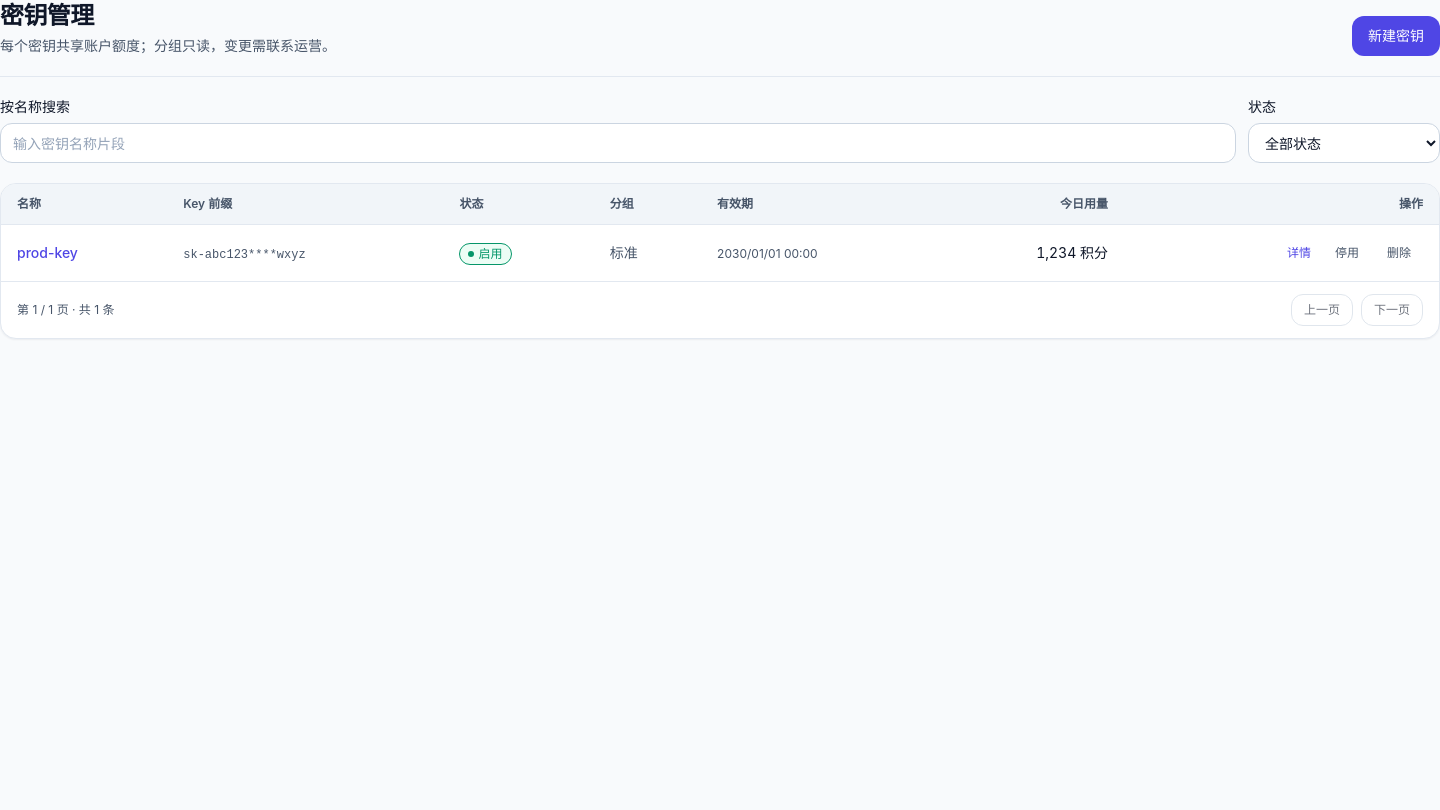
Test: KeysPage › F6-5: the wizard rejects a batch count outside the 1–10 backend range
This screenshot has width=1440, height=810.
Expected: the link "prod-key" is shown, [17,244,78,261]
Click the button "新建密钥": (1396, 36) [1352,16,1439,56]
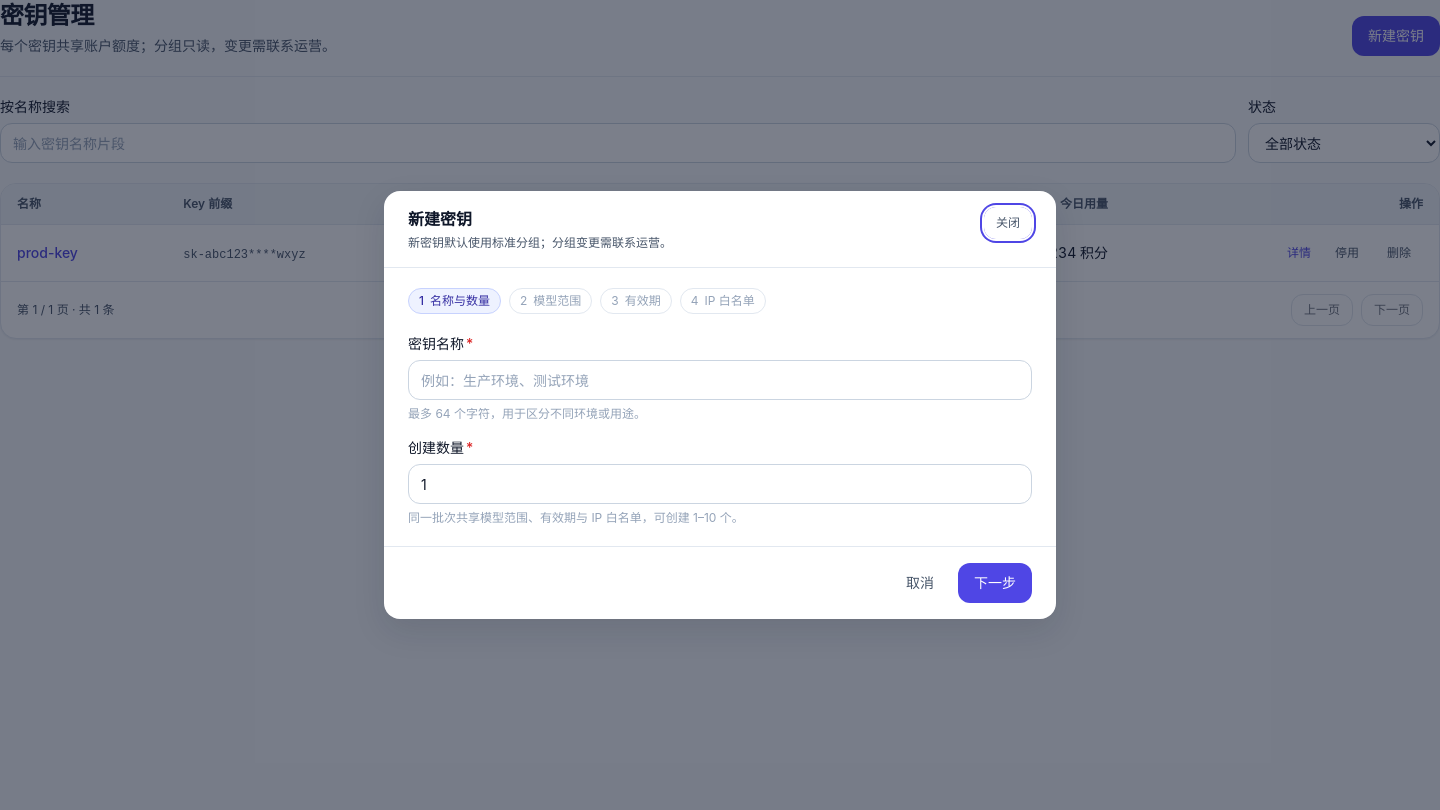
In the field labelled "密钥名称*": (720, 380) [408,360,1032,400], type "prod-key"
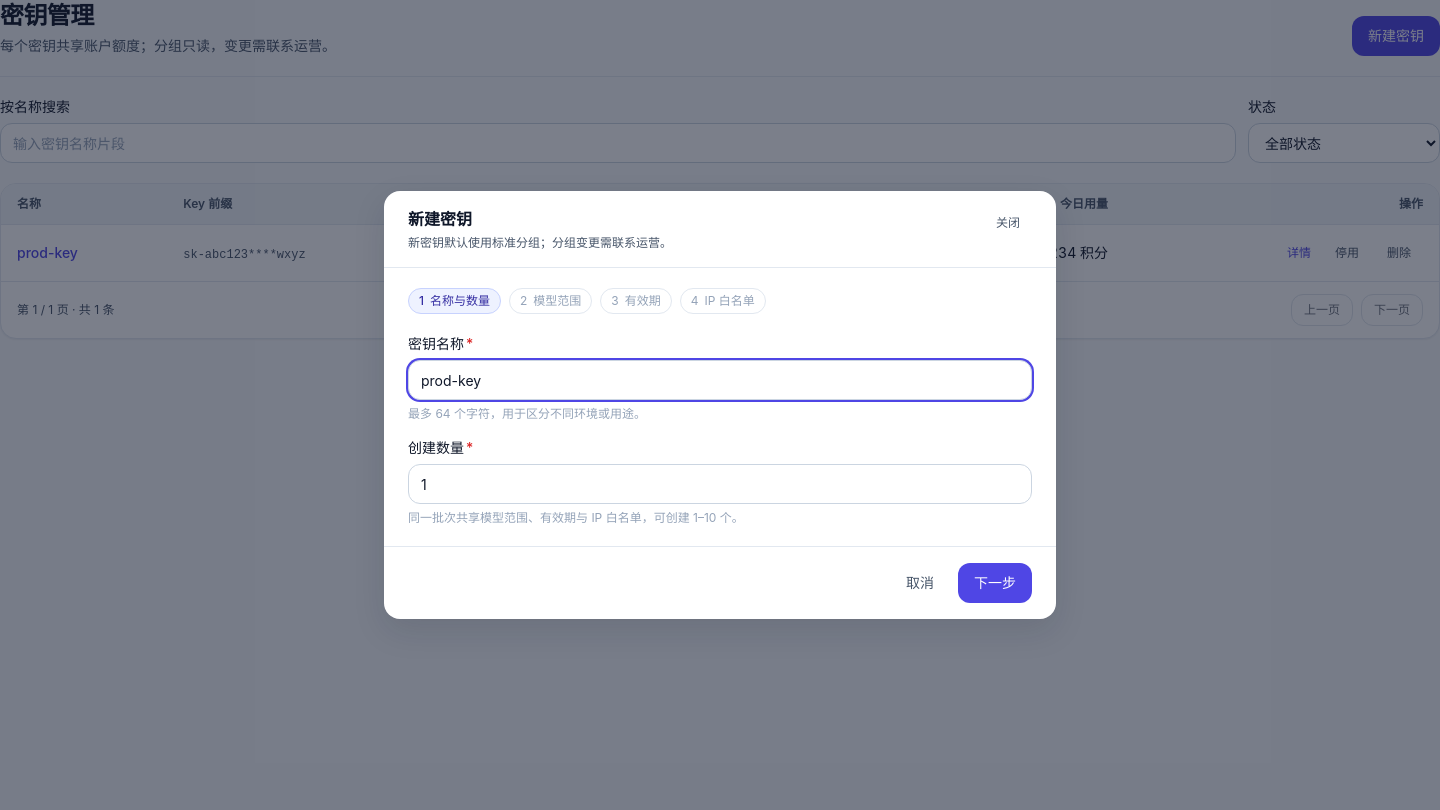
Replace the text in the number field labelled "创建数量*" with "11": (720, 484) [408,464,1032,504]
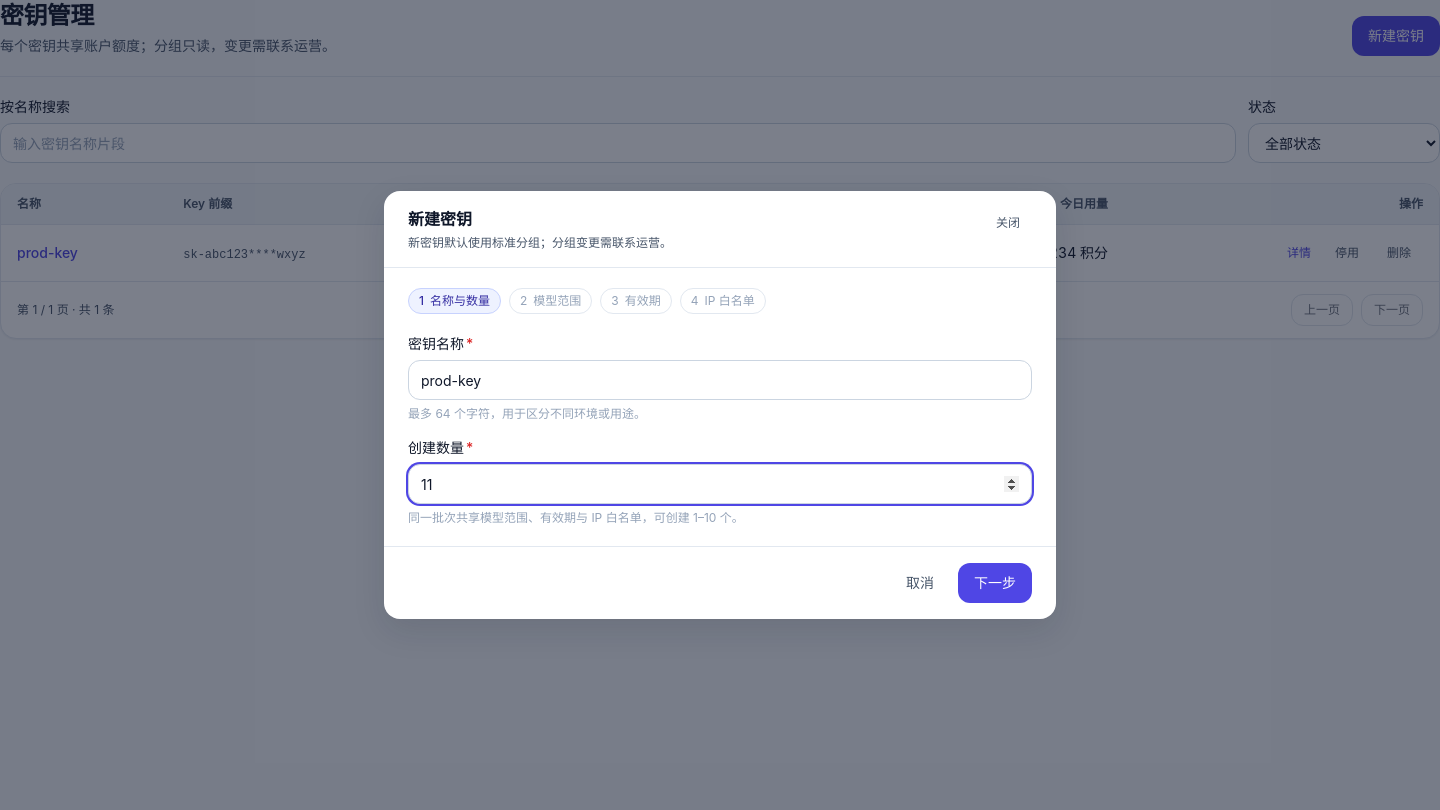
Click the button "下一步": (995, 583) [958,563,1032,603]
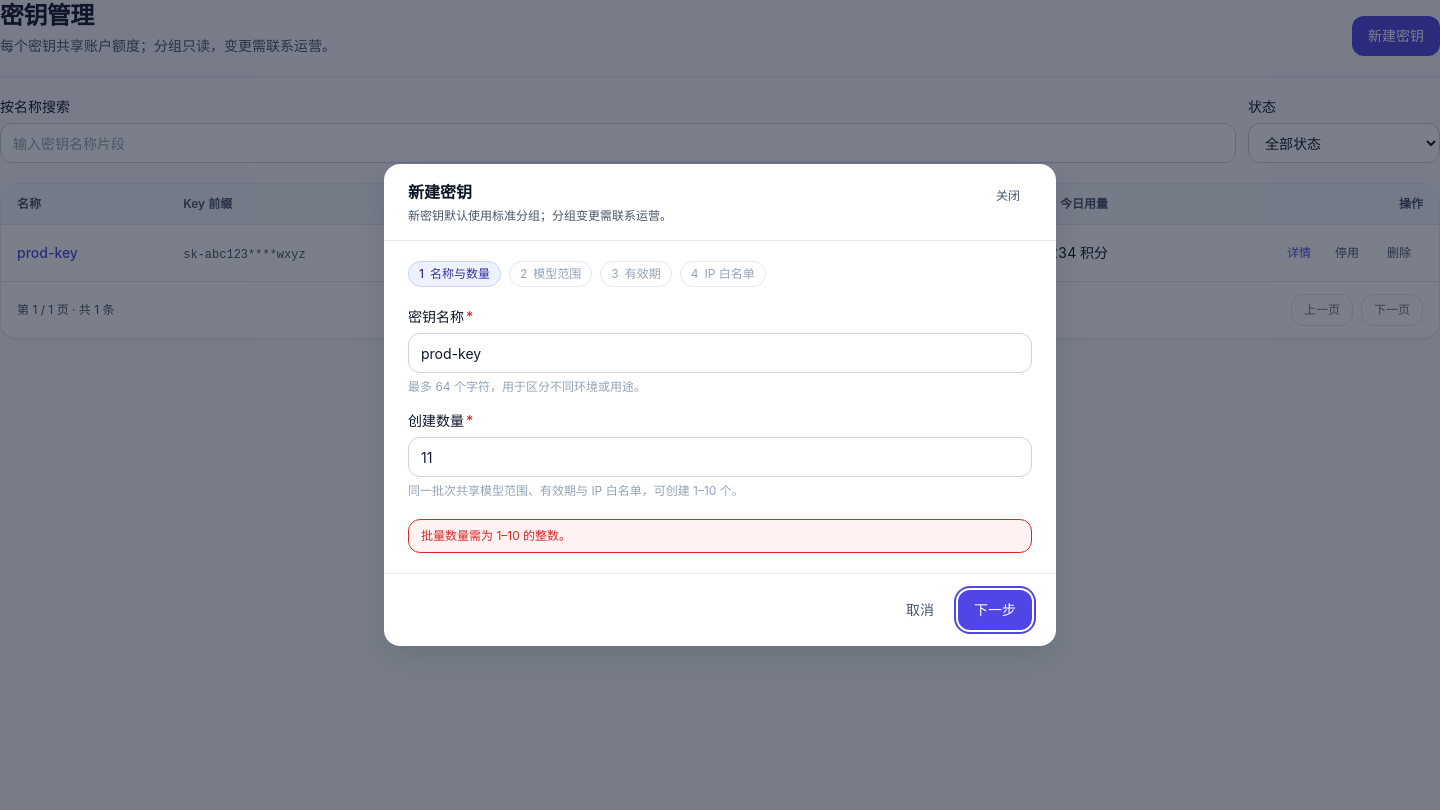
Expected: the text "批量数量需为 1–10 的整数。" is shown, [421,528,571,543]
